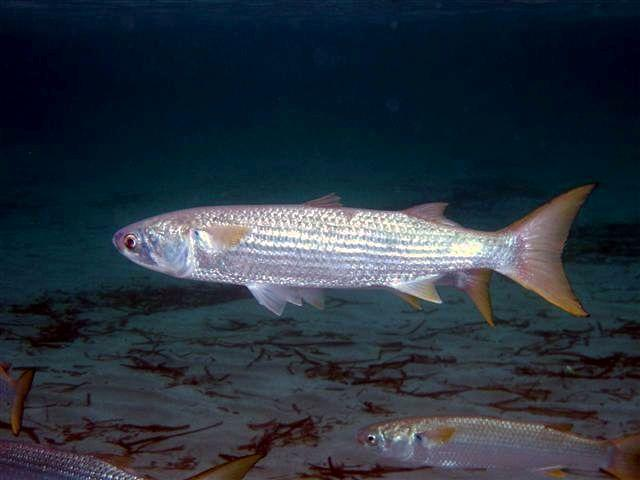Mullet: (107, 185, 598, 332)
